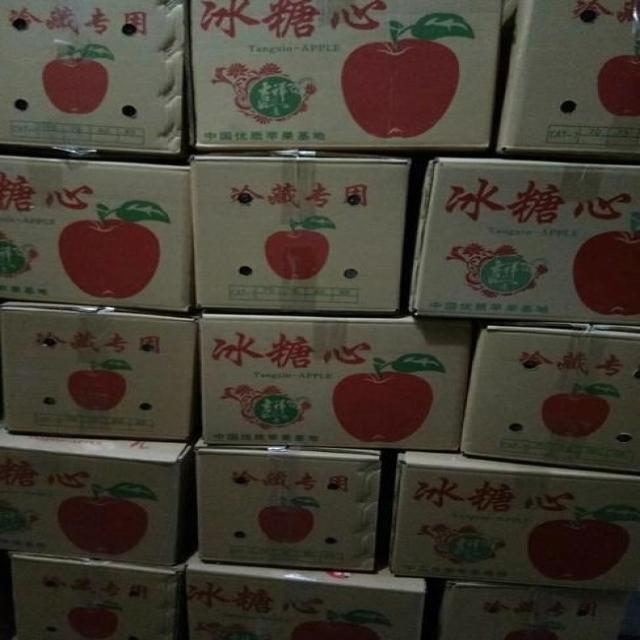box: (190, 0, 501, 150), (407, 157, 640, 326), (387, 446, 640, 596), (199, 314, 477, 450), (190, 156, 410, 314), (0, 154, 191, 311), (0, 0, 186, 153), (458, 322, 640, 473), (0, 304, 198, 436), (0, 432, 189, 564), (195, 446, 383, 574), (497, 0, 640, 155), (184, 550, 429, 640), (12, 546, 173, 640), (438, 581, 640, 640)
